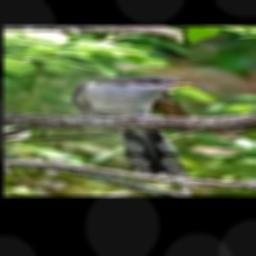Cuckoo: (71, 74, 208, 177)
